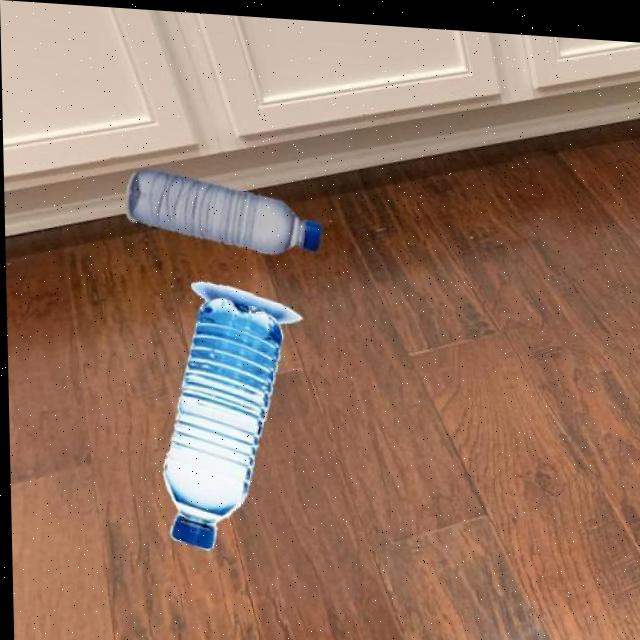bottle: (155, 274, 305, 552), (123, 163, 323, 254)
